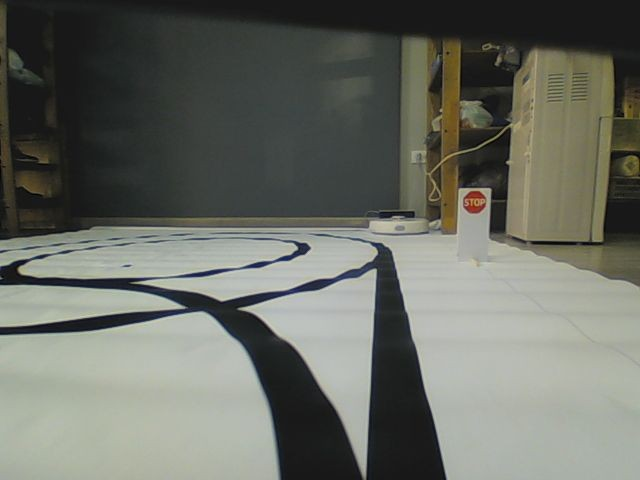Stop: (460, 189, 488, 216)
